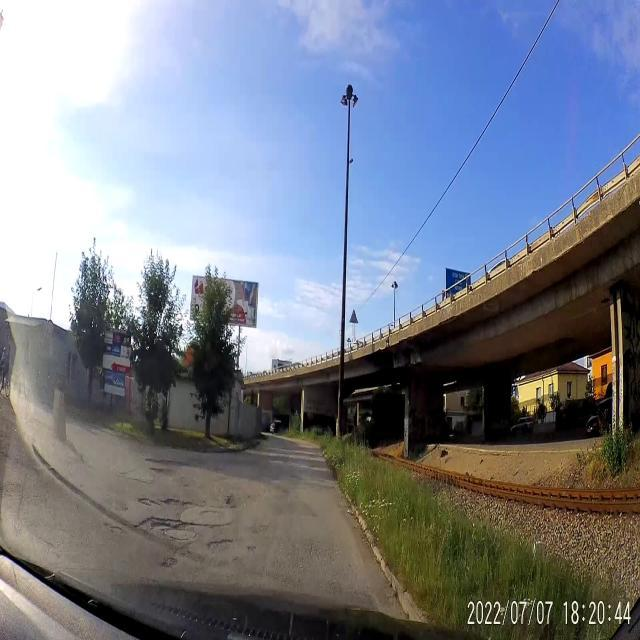Manhole: (98, 493, 128, 514)
Pothole: (137, 512, 185, 532), (142, 458, 194, 476), (163, 492, 200, 516), (150, 551, 183, 574), (99, 520, 128, 544), (202, 533, 238, 552), (164, 524, 198, 542), (198, 501, 224, 523), (136, 497, 162, 512), (222, 493, 242, 508), (244, 543, 261, 552), (0, 516, 1, 518)
